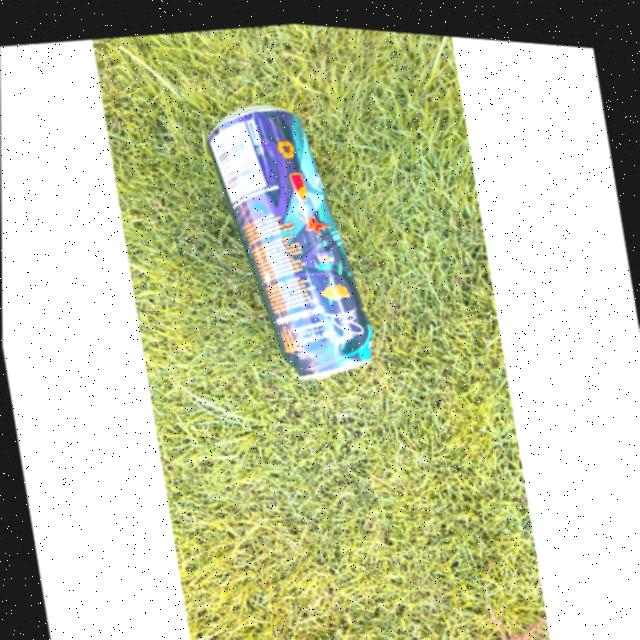Monster LH44: (197, 87, 385, 391)
